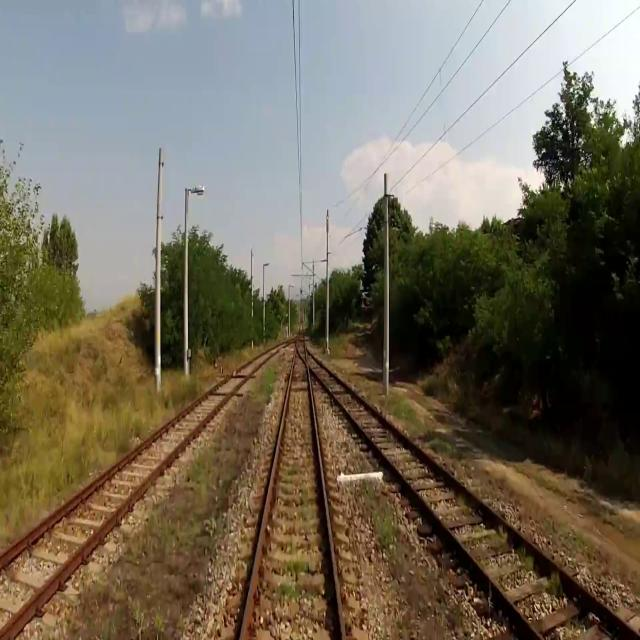rail-track: (307, 354, 637, 639), (0, 355, 264, 626), (242, 353, 341, 639), (298, 327, 304, 357)
